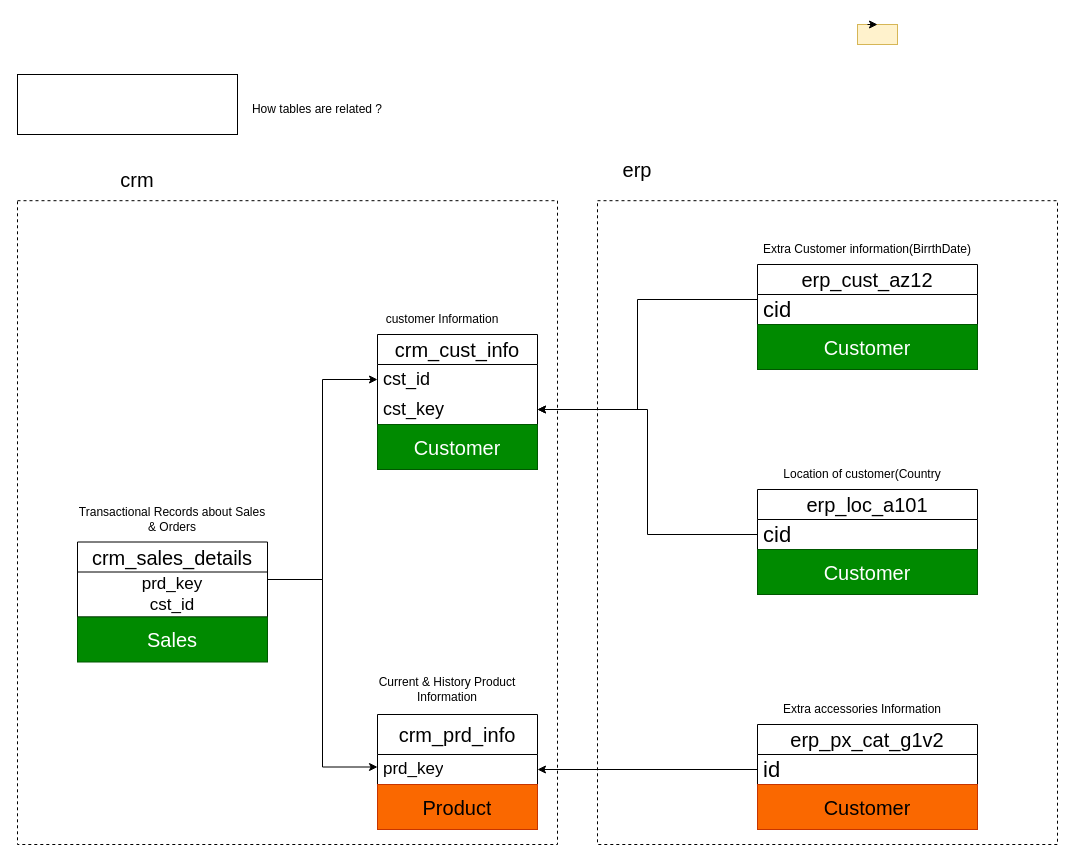
Some shapes in this 1075 by 862 pixel diagram are drawn without their labels. Each missing label, with the centre of its shape:
"A01" belongs at pixel 877 34.
"Integration Model" belongs at pixel 127 104.
